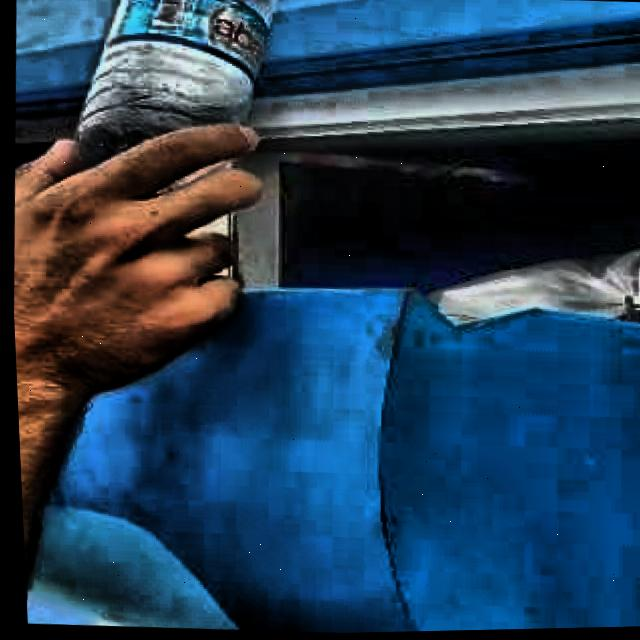plastic: (75, 0, 275, 163)
